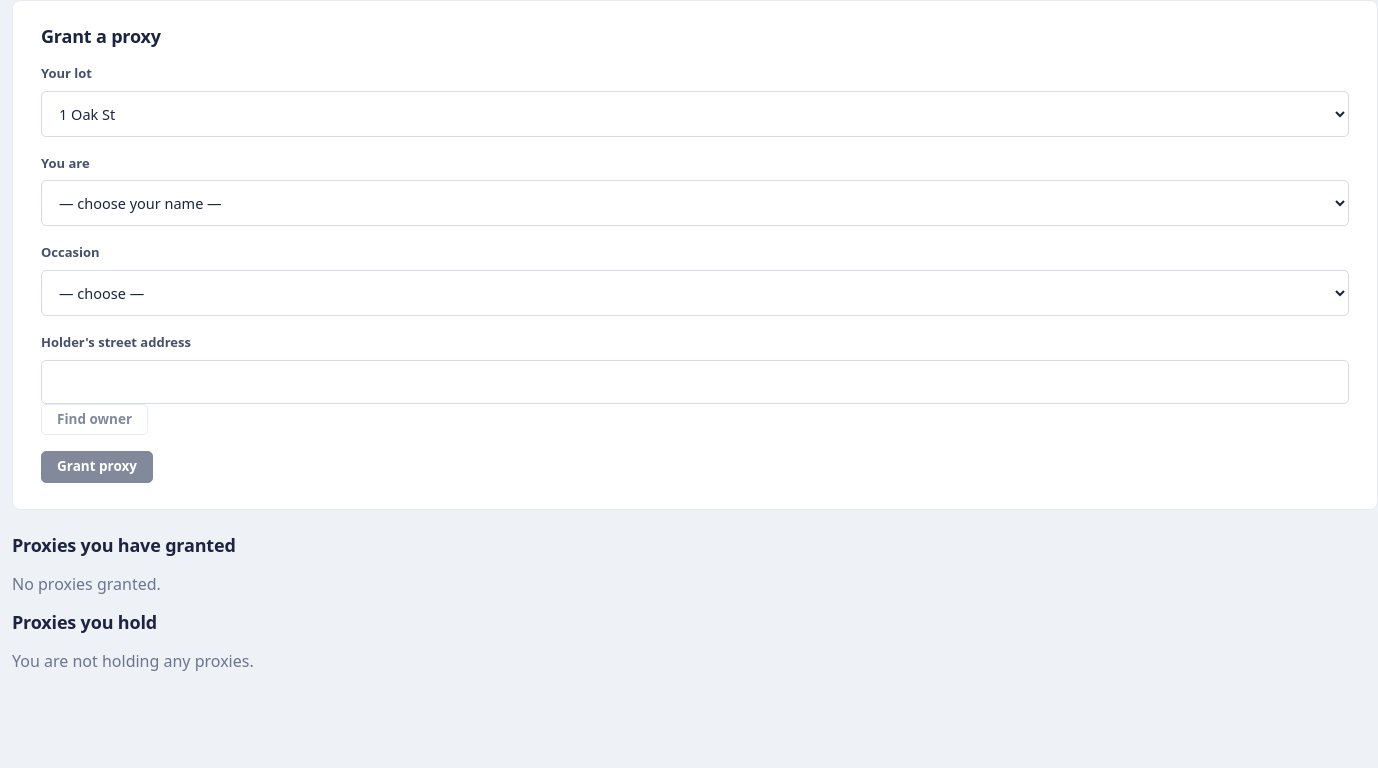
Scenario: ProxyManager › surfaces a lookup failure without crashing the form
Type "9 Nowhere Ln" into the field labelled "Holder's street address" at (695, 382), box [41,360,1349,404]
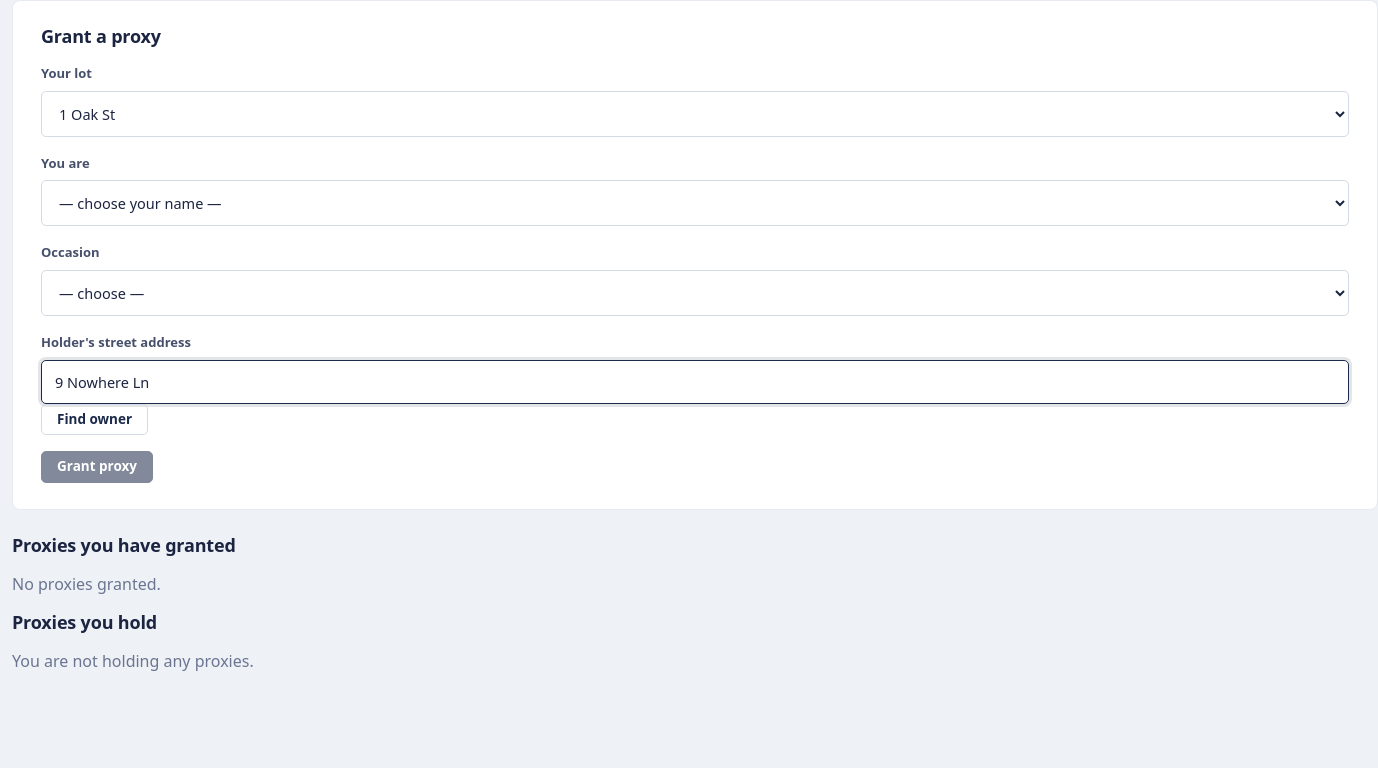
Click the button "Find owner" at (95, 420), box [41,404,148,436]
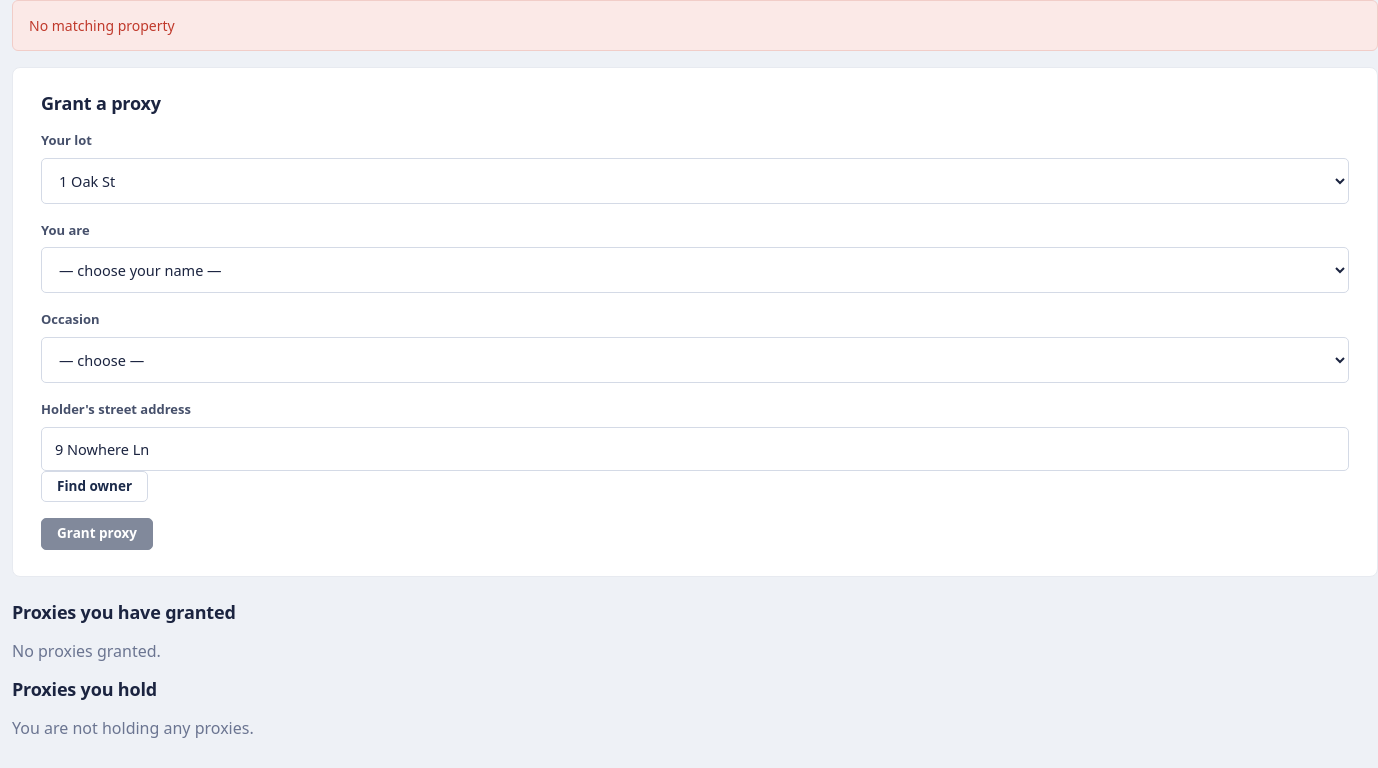
Result: the text "No matching property" is shown at [12,0,1377,51]
